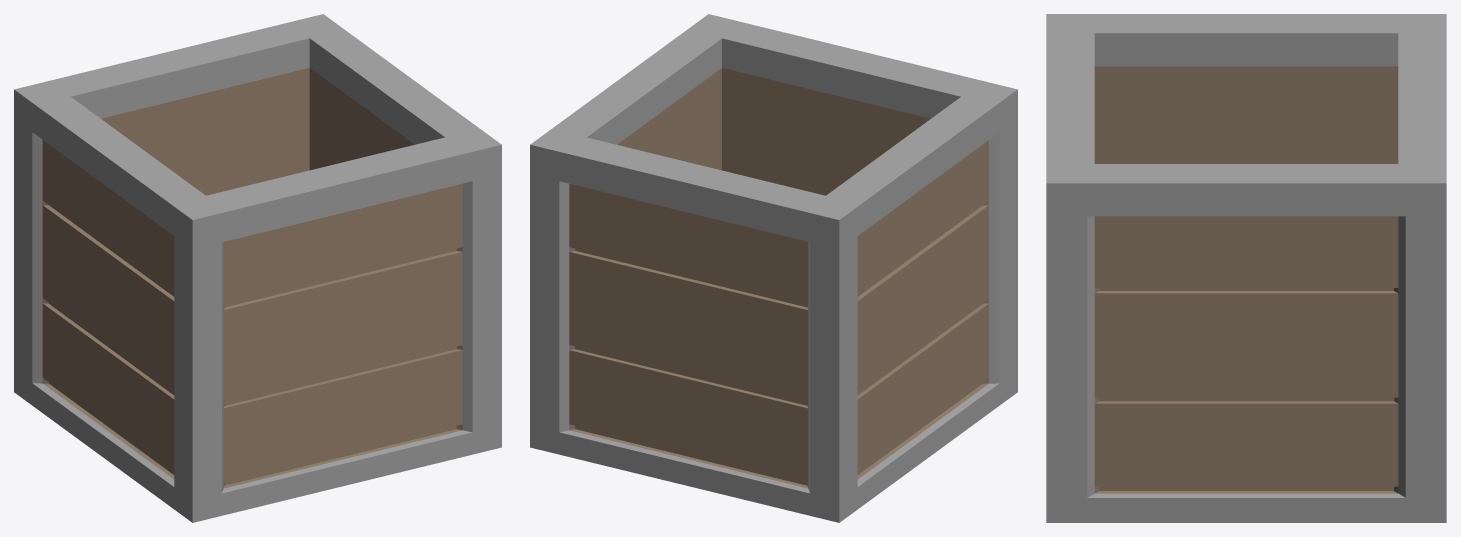
Rendered from crate_2.fbx.
The picture shows the model from 3 angles, left to right: view 1: azimuth 30°, elevation 25°; view 2: azimuth 150°, elevation 25°; view 3: azimuth 270°, elevation 25°; orthographic projection. The views are drawn at different scales.
Parts seen in each view (by area): view 1: crate; view 2: crate; view 3: crate.
Part boxes in pixels (x1=…): crate: x1=14, y1=14, x2=501, y2=522; crate: x1=530, y1=14, x2=1017, y2=522; crate: x1=1046, y1=14, x2=1446, y2=522.
Size of the model in its own units: 31.95 by 29.9 by 31.95.
